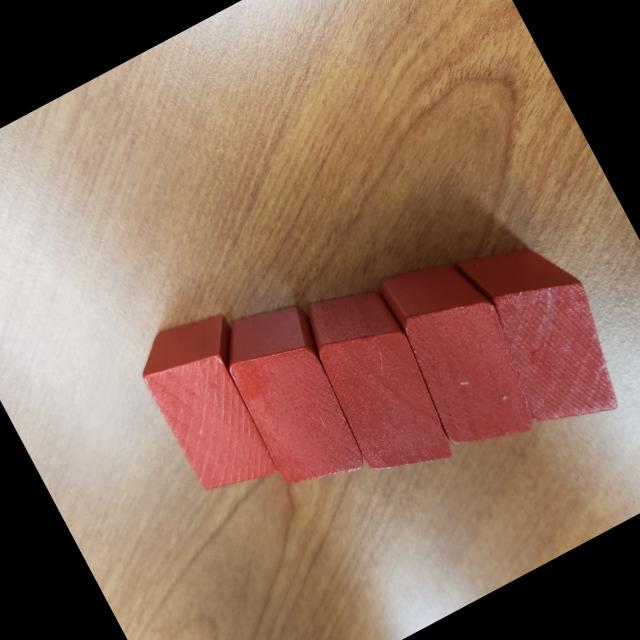red: (451, 217, 640, 446), (368, 240, 554, 467), (286, 268, 468, 495), (206, 286, 386, 508), (126, 300, 302, 508)
